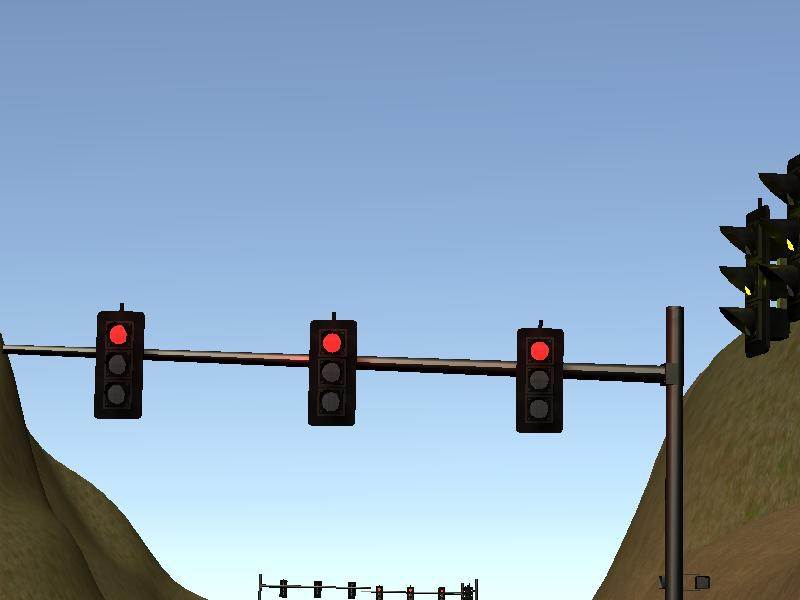Red: (88, 308, 147, 421), (303, 318, 357, 428), (513, 326, 566, 436)
